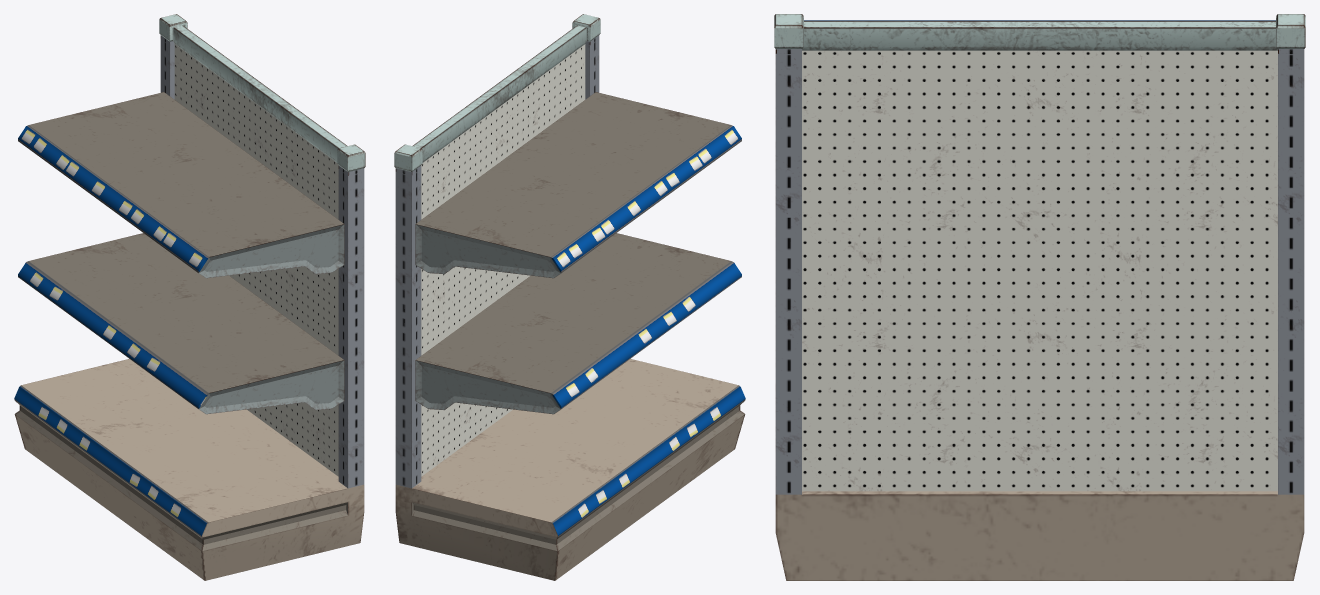
Rendered from shelfStore.fbx.
3 renders of one model, left to right at view 1: azimuth 30°, elevation 25°; view 2: azimuth 150°, elevation 25°; view 3: azimuth 270°, elevation 25°, orthographic. The views are drawn at different scales.
Parts seen in each view (by area): view 1: shelf_Base_shortexp, shelf_piece_exp004, shelf_piece_exp003; view 2: shelf_Base_shortexp, shelf_piece_exp004, shelf_piece_exp003; view 3: shelf_Base_shortexp, shelf_piece_exp004.
Boxes of the visible parts, bbox=[...] form: shelf_Base_shortexp: bbox=[14, 14, 365, 580]; shelf_piece_exp004: bbox=[18, 92, 344, 278]; shelf_piece_exp003: bbox=[18, 233, 344, 414]; shelf_Base_shortexp: bbox=[394, 14, 745, 580]; shelf_piece_exp004: bbox=[415, 92, 741, 278]; shelf_piece_exp003: bbox=[415, 233, 741, 414]; shelf_Base_shortexp: bbox=[774, 14, 1305, 580]; shelf_piece_exp004: bbox=[804, 20, 1275, 21].
Size of the model in its own units: 128 by 295 by 255.
